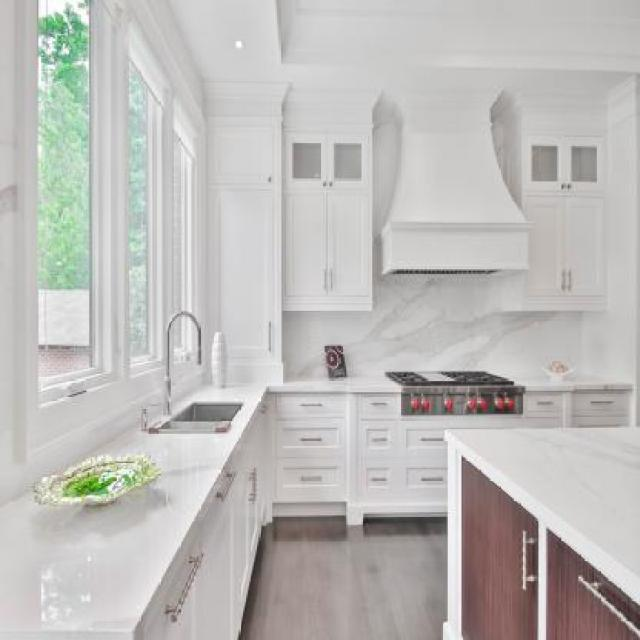Floor: (239, 516, 448, 640)
